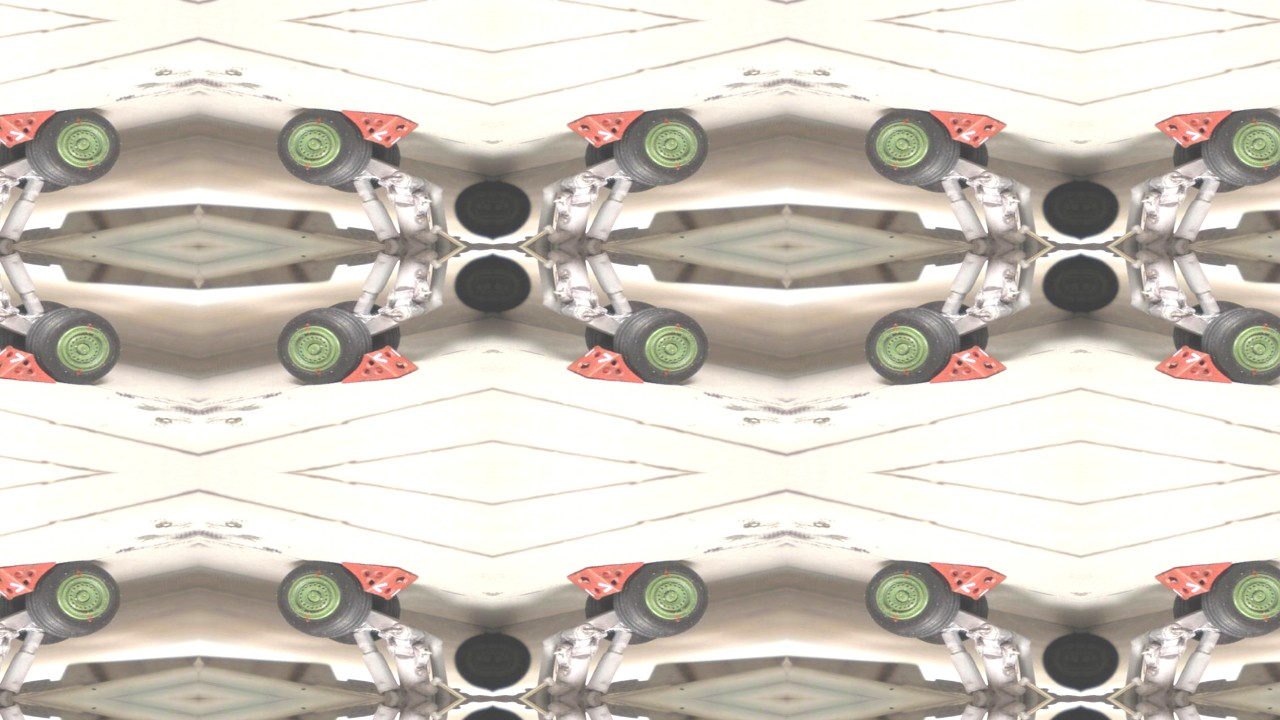chock: (335, 104, 420, 153), (565, 104, 650, 153), (924, 104, 1009, 153), (1154, 104, 1239, 153), (335, 340, 420, 389), (565, 340, 650, 389), (924, 340, 1009, 389), (1154, 340, 1239, 389), (335, 557, 420, 606), (565, 557, 650, 606), (924, 557, 1009, 606), (1154, 557, 1239, 606), (0, 104, 61, 153), (0, 340, 61, 389), (0, 557, 61, 606)
wheel: (19, 101, 128, 194), (268, 101, 377, 194), (608, 101, 717, 194), (857, 101, 966, 194), (19, 299, 128, 392), (268, 299, 377, 392), (608, 299, 717, 392), (857, 299, 966, 392), (19, 554, 128, 647), (268, 554, 377, 647), (608, 554, 717, 647), (857, 554, 966, 647), (1197, 101, 1280, 194), (1197, 299, 1280, 392), (1197, 554, 1280, 647), (448, 173, 493, 244), (1037, 173, 1082, 244), (448, 249, 493, 320), (1037, 249, 1082, 320), (448, 626, 493, 697), (1037, 626, 1082, 697), (493, 173, 537, 244), (1082, 173, 1126, 244), (493, 249, 537, 320), (1082, 249, 1126, 320), (493, 626, 537, 697), (1082, 626, 1126, 697), (448, 702, 493, 720), (1037, 702, 1082, 720), (493, 702, 537, 720), (1082, 702, 1126, 720)
